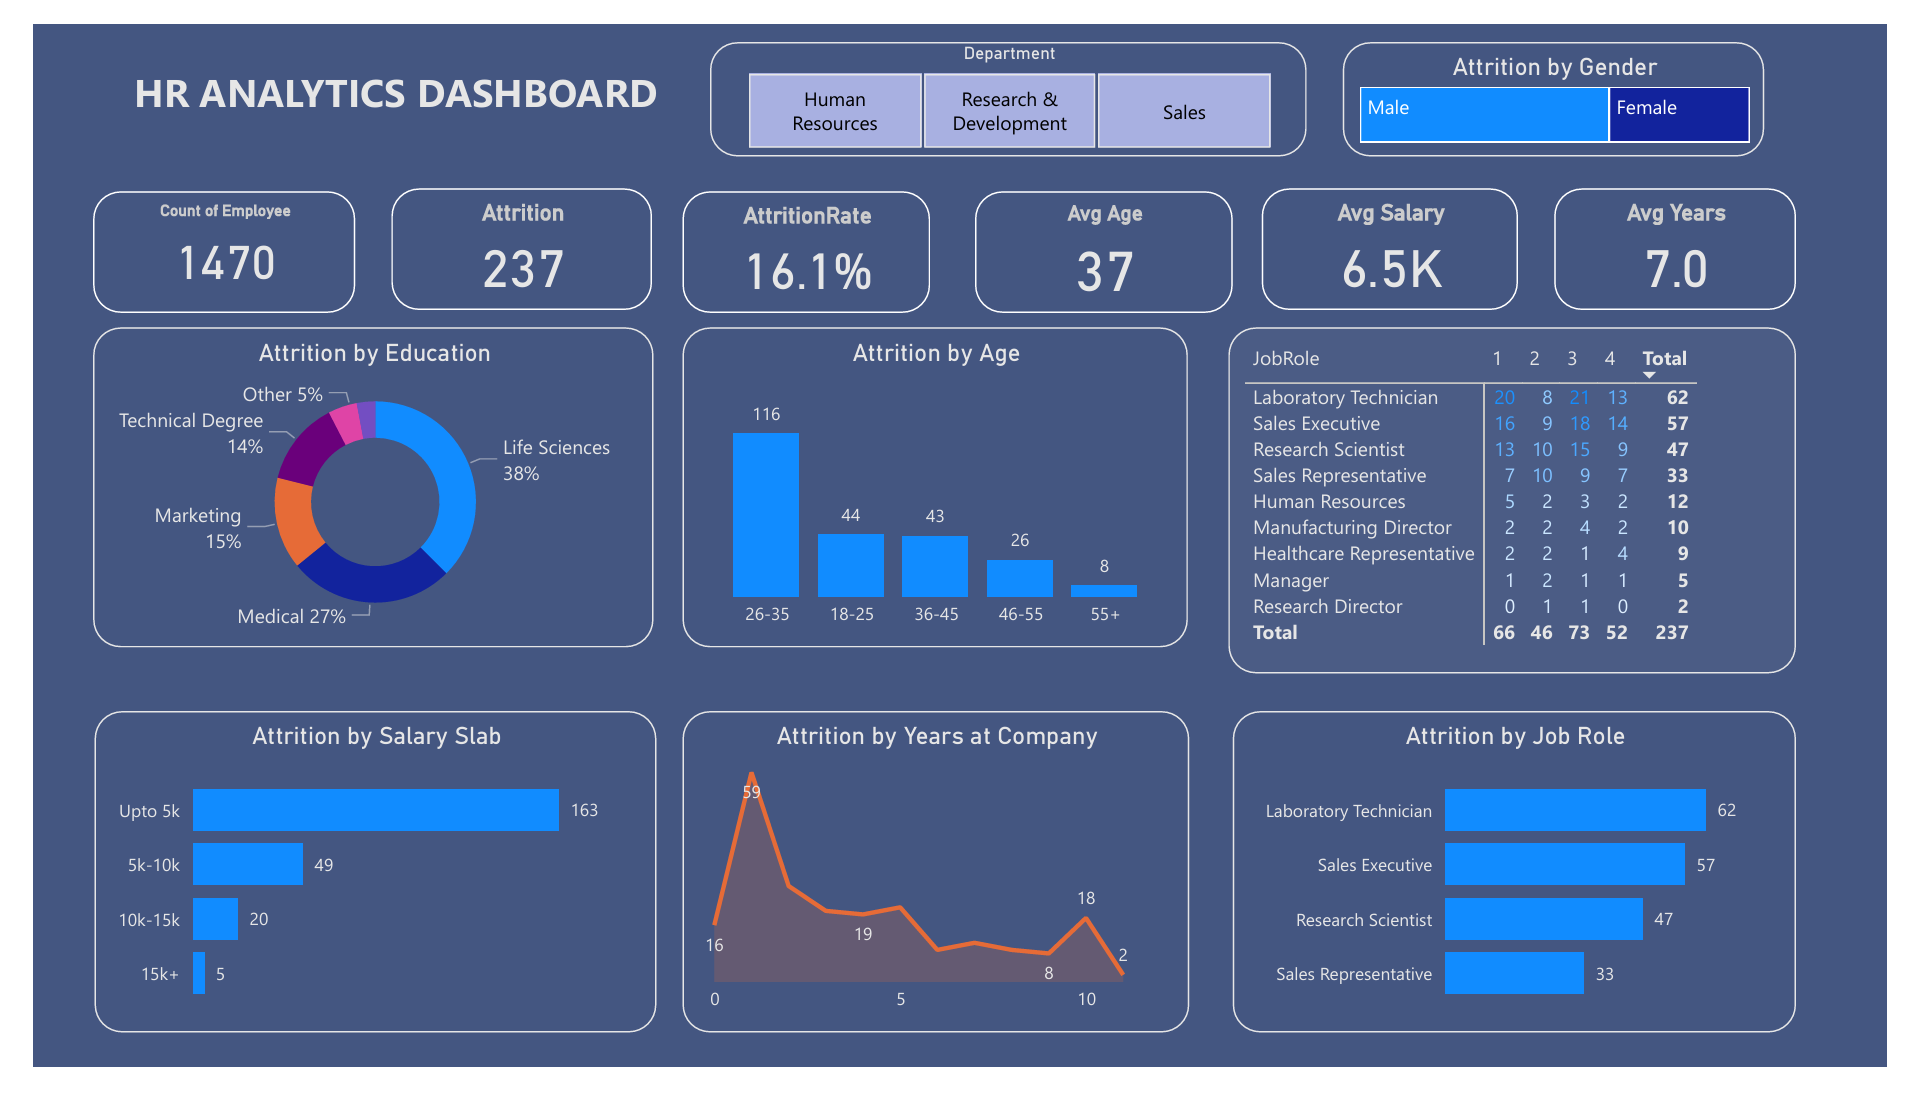

What the dashboard file says about the page in this screenshot:
{"tool":"powerbi","page":{"name":"Page 1","canvas":[1280,720],"ordinal":0},"visuals":[{"type":"card","title":"Count of Employee","fields":{"Values":["CountNonNull(HR_Analytics.EmpID)"]},"box":[40.5,114.8,181,83.8],"z":0},{"type":"card","title":"Attrition","fields":{"Values":["Sum(HR_Analytics.AttritionCount)"]},"box":[247.2,113.5,179.7,83.8],"z":1000},{"type":"card","title":"Avg Age","fields":{"Values":["Avg(HR_Analytics.Age)"]},"box":[649.8,114.8,178.3,83.8],"z":2000},{"type":"card","title":"AttritionRate","fields":{"Values":["HR_Analytics.AttritionRate"]},"box":[448.5,114.8,170.2,83.8],"z":3000},{"type":"card","title":"Avg Salary","fields":{"Values":["Avg(HR_Analytics.MonthlyIncome)"]},"box":[848.3,113.5,177,83.8],"z":4000},{"type":"card","title":"Avg Years","fields":{"Values":["Avg(HR_Analytics.YearsAtCompany)"]},"box":[1049.6,113.5,167.5,83.8],"z":5000},{"type":"donutChart","title":"Attrition by Education","fields":{"Category":["HR_Analytics.EducationField"],"Y":["Sum(HR_Analytics.AttritionCount)"]},"box":[40.5,209.4,387.7,220.2],"z":6000},{"type":"columnChart","title":"Attrition by Age","fields":{"Category":["HR_Analytics.AgeGroup"],"Y":["Sum(HR_Analytics.AttritionCount)"]},"box":[448.5,209.4,348.5,220.2],"z":7000},{"type":"pivotTable","fields":{"Rows":["HR_Analytics.JobRole"],"Columns":["HR_Analytics.JobSatisfaction"],"Values":["Sum(HR_Analytics.AttritionCount)"]},"box":[825.4,209.4,391.7,239.1],"z":8000},{"type":"barChart","title":"Attrition by Salary Slab","fields":{"Category":["HR_Analytics.SalarySlab"],"Y":["Sum(HR_Analytics.AttritionCount)"]},"box":[41.9,474.1,387.7,221.5],"z":9000},{"type":"barChart","title":"Attrition by Job Role","fields":{"Category":["HR_Analytics.JobRole"],"Y":["Sum(HR_Analytics.AttritionCount)"]},"box":[828.1,474.1,389,221.5],"z":10000},{"type":"areaChart","title":"Attrition by Years at Company","fields":{"Category":["HR_Analytics.YearsAtCompany"],"Y":["Sum(HR_Analytics.AttritionCount)"]},"box":[448.5,474.1,349.9,221.5],"z":11000},{"type":"treemap","title":"Attrition by Gender","fields":{"Group":["HR_Analytics.Gender"],"Values":["Sum(HR_Analytics.AttritionCount)"]},"box":[903.7,12.2,291.8,78.3],"z":12000},{"type":"slicer","title":"Department","fields":{"Values":["HR_Analytics.Department"]},"box":[467.4,12.2,412,78.3],"z":13000},{"type":"textbox","box":[14.9,23,433.6,56.7],"z":14000}]}

Visuals, with their boxes in screenshot pixels (x1, y1, x2, y2), scaled from the page's 1280x720 canvas onto the 1915x1096 screenshot:
"Count of Employee" card: <bbox>61, 175, 331, 302</bbox>
"Attrition" card: <bbox>370, 173, 639, 300</bbox>
"Avg Age" card: <bbox>972, 175, 1239, 302</bbox>
"AttritionRate" card: <bbox>671, 175, 926, 302</bbox>
"Avg Salary" card: <bbox>1269, 173, 1534, 300</bbox>
"Avg Years" card: <bbox>1570, 173, 1821, 300</bbox>
"Attrition by Education" donutChart: <bbox>61, 319, 641, 654</bbox>
"Attrition by Age" columnChart: <bbox>671, 319, 1192, 654</bbox>
pivotTable - HR_Analytics.JobRole x HR_Analytics.JobSatisfaction: <bbox>1235, 319, 1821, 683</bbox>
"Attrition by Salary Slab" barChart: <bbox>63, 722, 643, 1059</bbox>
"Attrition by Job Role" barChart: <bbox>1239, 722, 1821, 1059</bbox>
"Attrition by Years at Company" areaChart: <bbox>671, 722, 1194, 1059</bbox>
"Attrition by Gender" treemap: <bbox>1352, 19, 1789, 138</bbox>
"Department" slicer: <bbox>699, 19, 1316, 138</bbox>
textbox: <bbox>22, 35, 671, 121</bbox>
